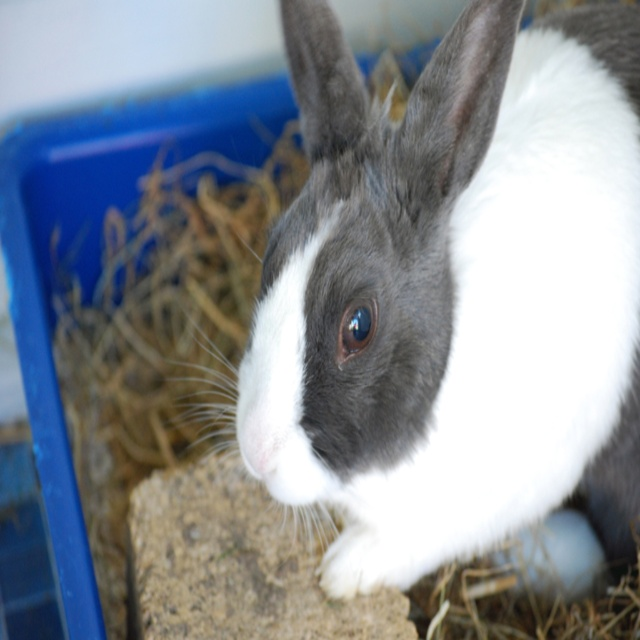Rabbit: (164, 0, 639, 597)
